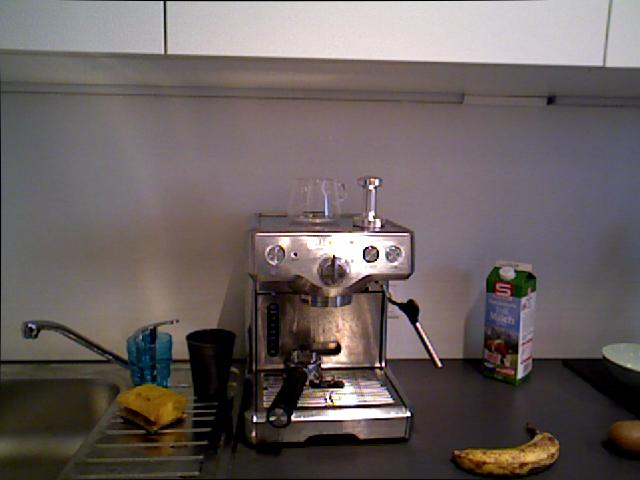bench: (478, 256, 539, 389)
bird: (601, 341, 639, 386)
couch: (0, 373, 122, 479)
handbag: (184, 325, 238, 400), (123, 327, 176, 397), (287, 174, 349, 224)
motorcycle: (452, 422, 560, 476)
